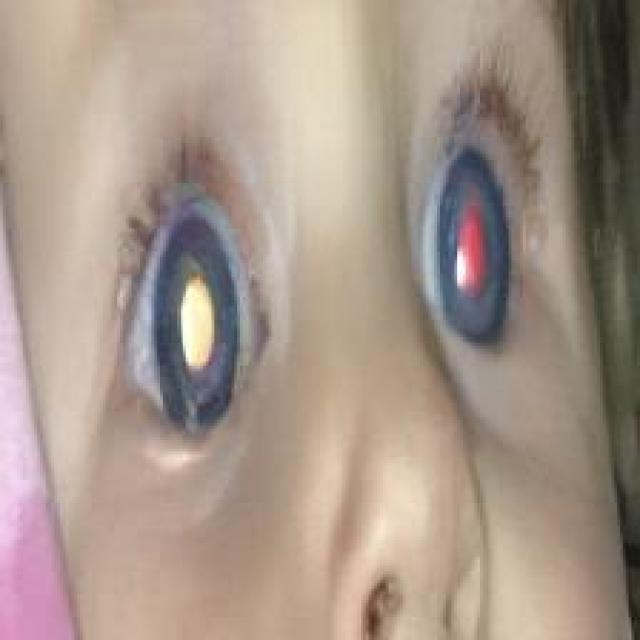reflexo-alterado: (97, 184, 273, 443)
reflexo-normal: (394, 130, 534, 332)
